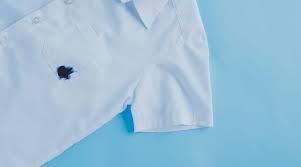ink: (57, 66, 74, 80)
